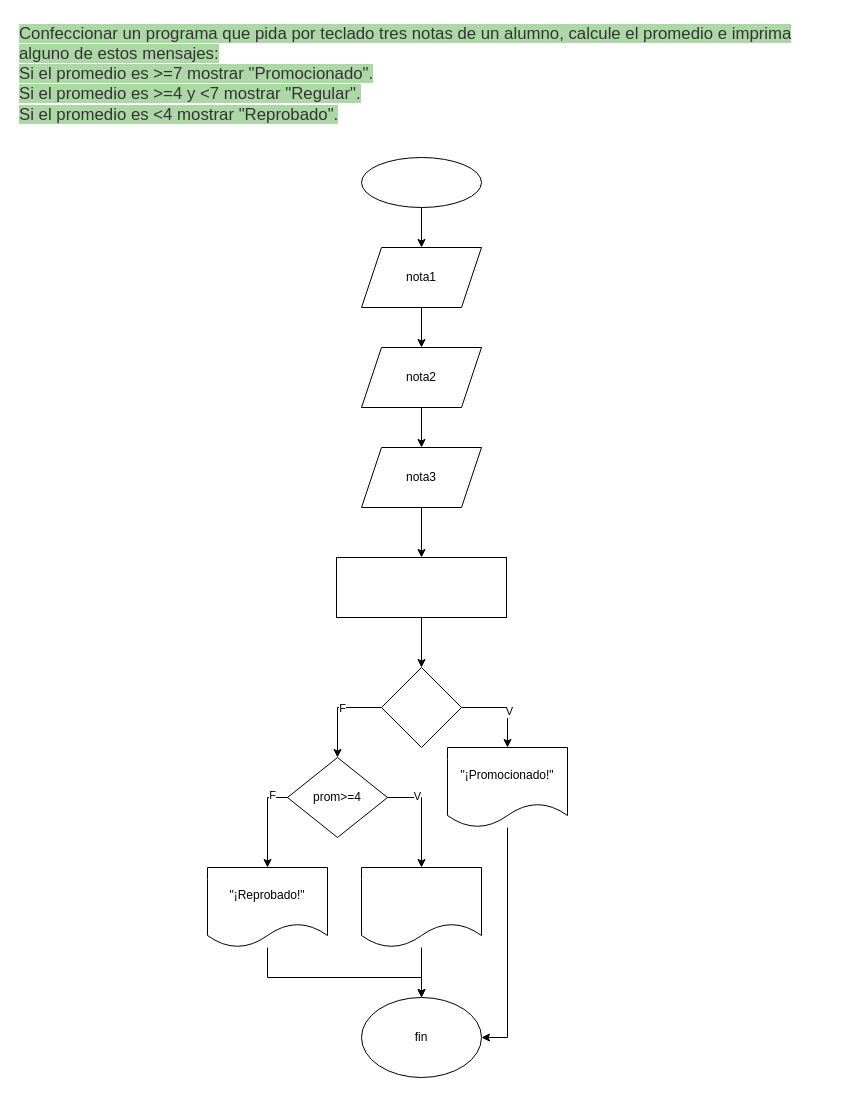
Image size: 844x1095. Some labels were removed from this diagram. Each missing label, with the box of its shape:
"¡Regular!": (360, 866, 482, 948)
inicio: (360, 156, 482, 208)
prom=(nota1+nota2+nota3)/3: (336, 556, 506, 618)
prom>=7: (380, 666, 462, 748)
